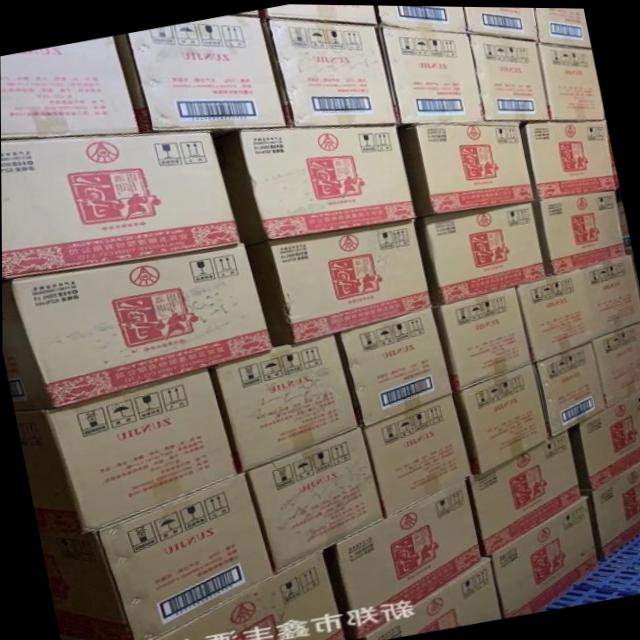box: (2, 242, 273, 413), (39, 473, 272, 640), (16, 365, 240, 531), (1, 130, 241, 283), (326, 476, 483, 638), (214, 123, 418, 246), (246, 217, 433, 344), (243, 426, 385, 573), (212, 332, 361, 472), (116, 14, 291, 131), (144, 550, 347, 640), (263, 17, 399, 126), (0, 36, 141, 141), (485, 493, 599, 617), (469, 427, 581, 553), (335, 307, 452, 426), (415, 199, 548, 303), (362, 392, 470, 518), (397, 119, 535, 217), (355, 554, 500, 640), (453, 361, 551, 473), (378, 25, 488, 123), (432, 285, 531, 390), (534, 187, 627, 273), (515, 267, 594, 362), (524, 119, 617, 198), (566, 390, 640, 487), (535, 338, 607, 436), (471, 33, 552, 120), (580, 459, 640, 558), (540, 41, 606, 120), (578, 253, 640, 337), (593, 319, 640, 406), (462, 5, 541, 41), (375, 4, 469, 33), (265, 3, 381, 25), (538, 6, 592, 46)
